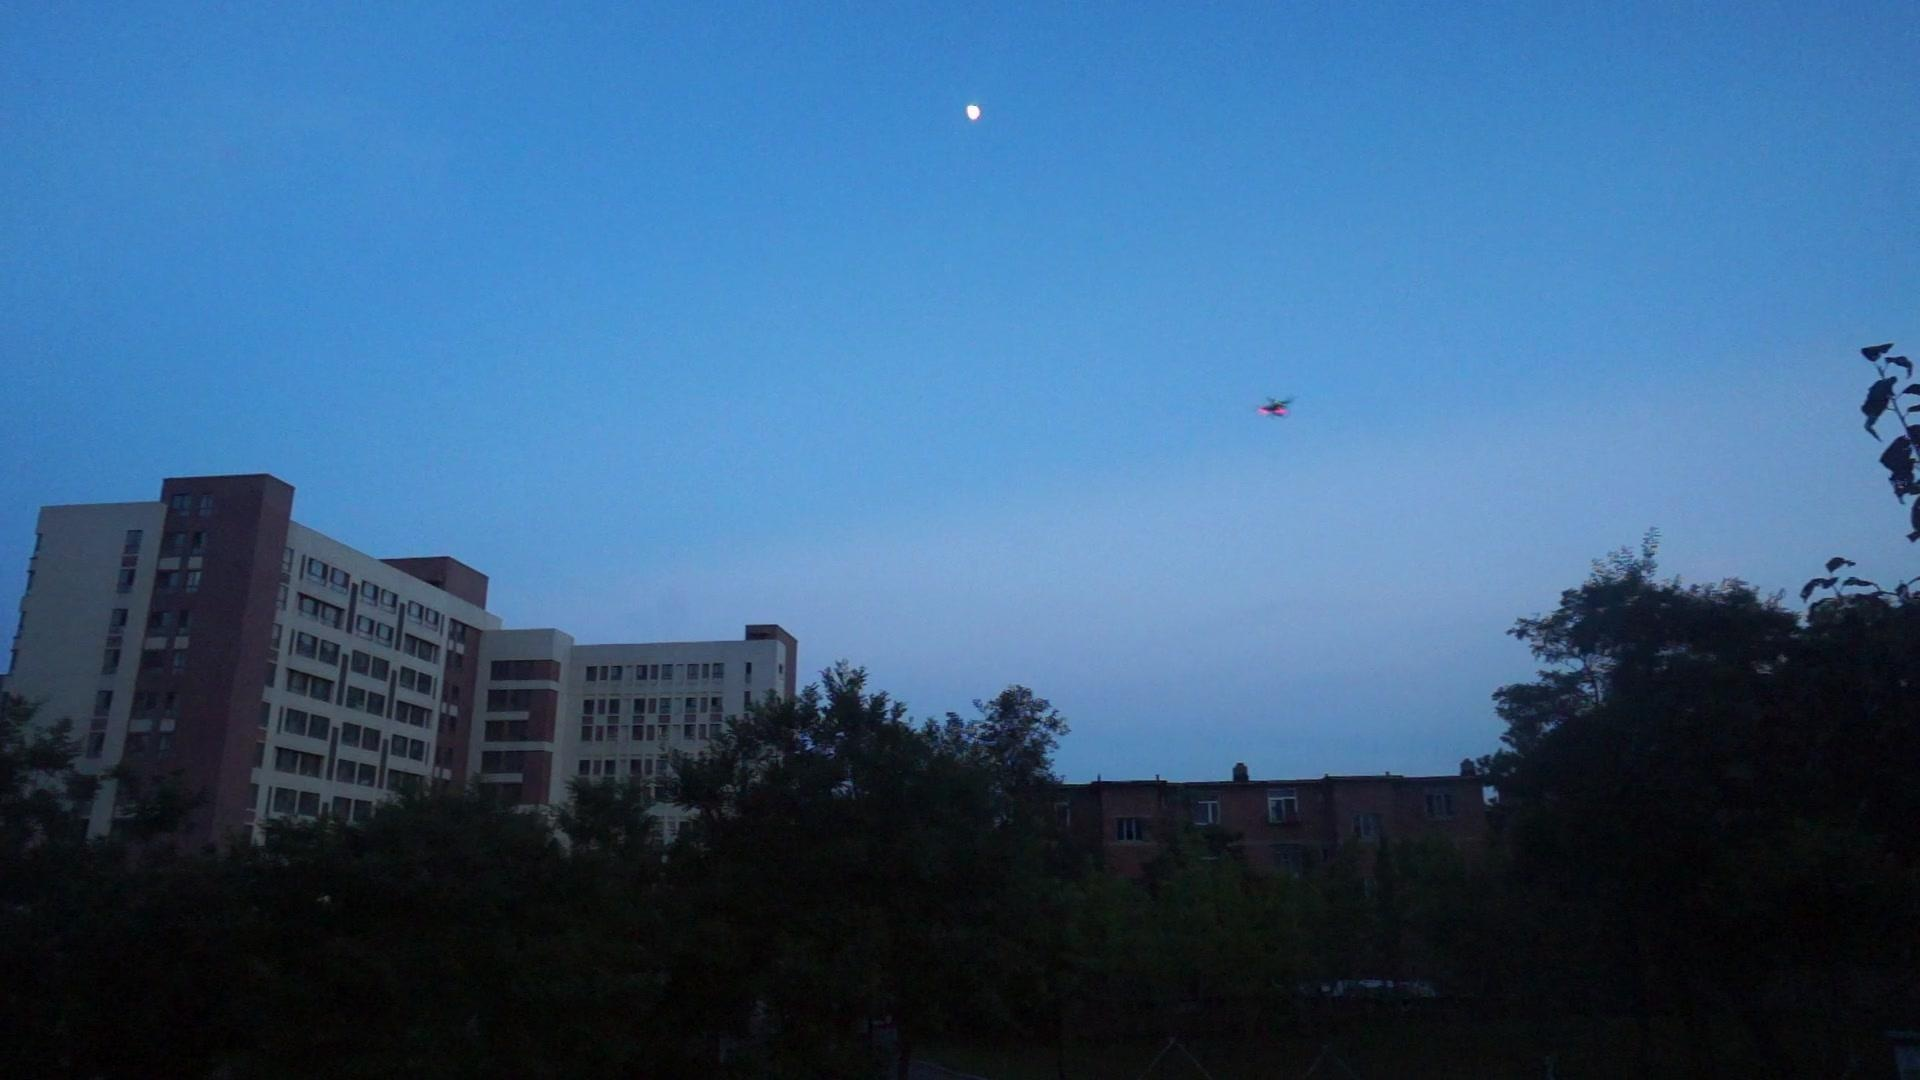UAV: (1255, 397, 1295, 419)
